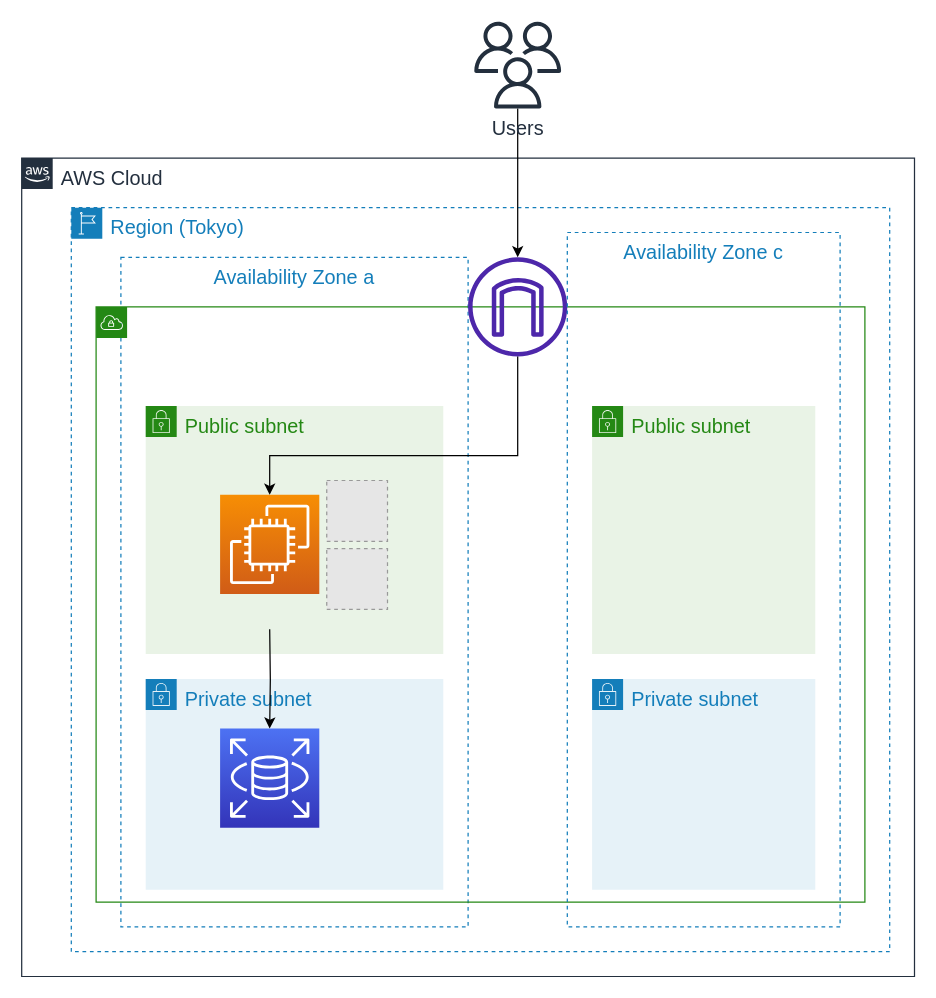
Some shapes in this 936 by 998 pixel diagram are drawn without their labels. Grey dashed boxes stand in for pictures. The box of each missing label's shape, as (x1, y1, x2, y2) in pixels:
EC2: (219, 494, 319, 594)
Internet Gateway: (467, 257, 567, 356)
RDS (MySQL): (219, 727, 319, 828)
VPC: (95, 306, 865, 902)
